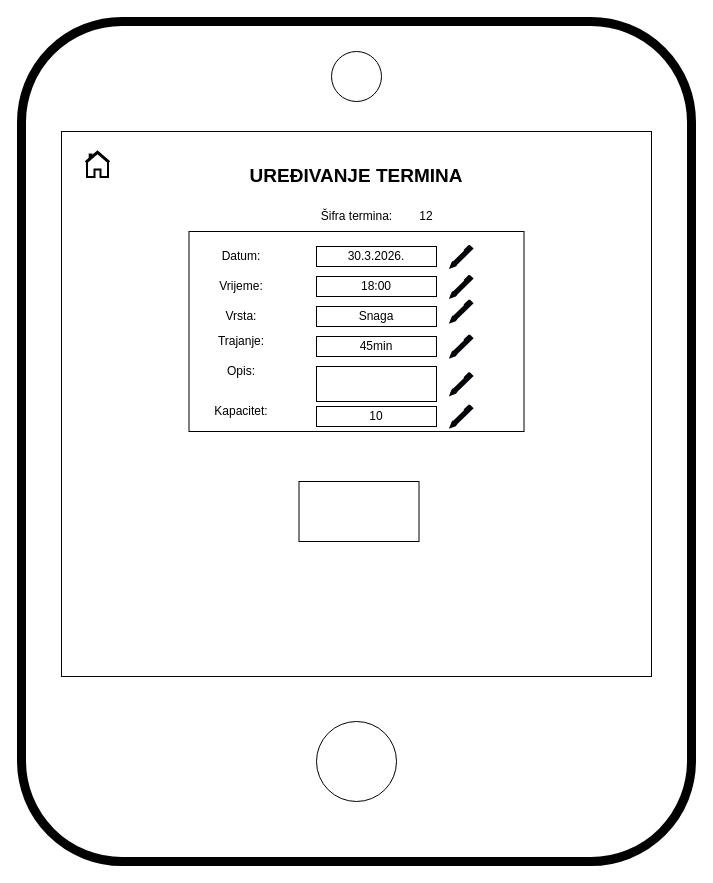
This 713x883 diagram has some shape labels left out. The shapes that lost their labels are listed below. From the top down, each one's centre as x and y in pixels, then its label:
At point 376,384: "Vježbanje snage u grupi".
At point 358,511: "SPREMI".
